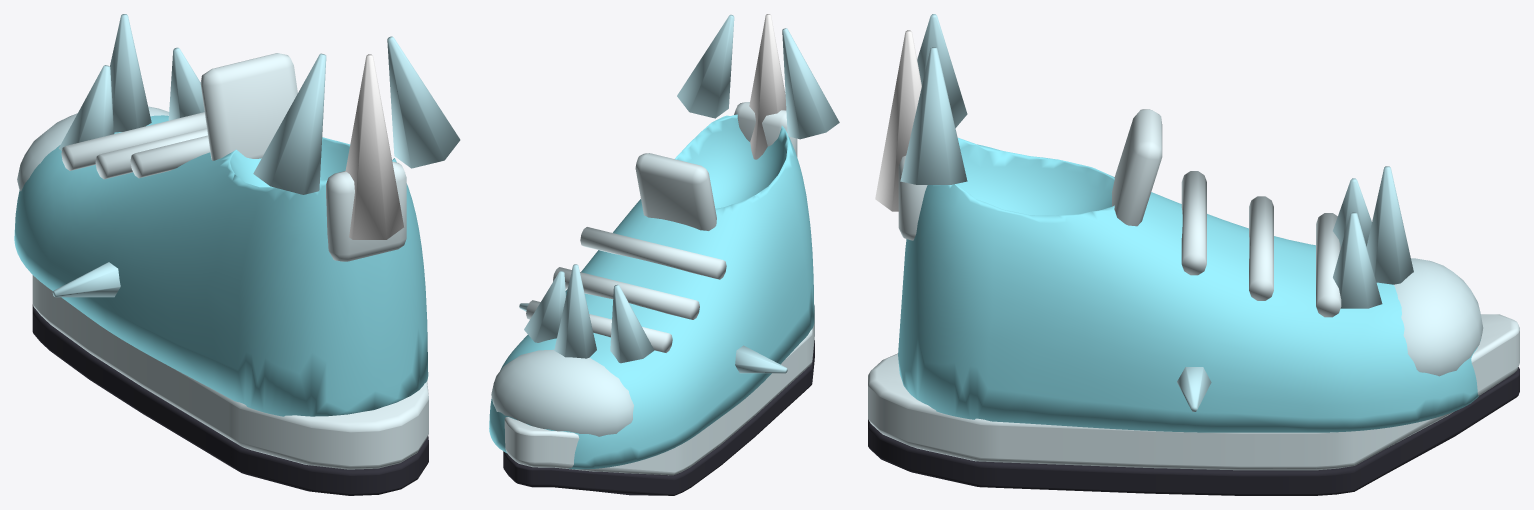
File: shoe_crystal.fbx
3 views of the same model, side by side, from view 1: azimuth 30°, elevation 25°; view 2: azimuth 150°, elevation 25°; view 3: azimuth 270°, elevation 25° (orthographic). The views are drawn at different scales.
Parts seen in each view (by area): view 1: shoe_crystal; view 2: shoe_crystal; view 3: shoe_crystal.
Part boxes in pixels (<box>): shoe_crystal: <box>14,14,460,495</box>; shoe_crystal: <box>489,14,839,495</box>; shoe_crystal: <box>868,14,1519,495</box>.
Size of the model in its own units: 2.27 by 2.71 by 3.88.
1 material, 1 textured.
